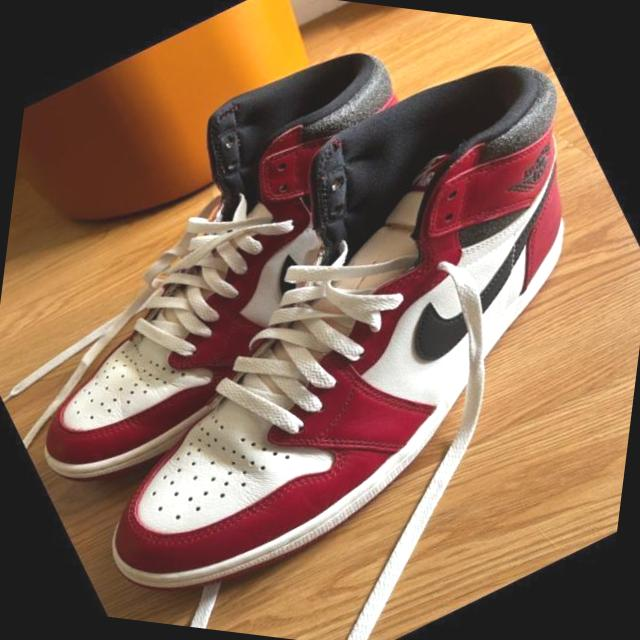nike_original_jordan: (0, 0, 640, 640), (0, 0, 547, 554)
